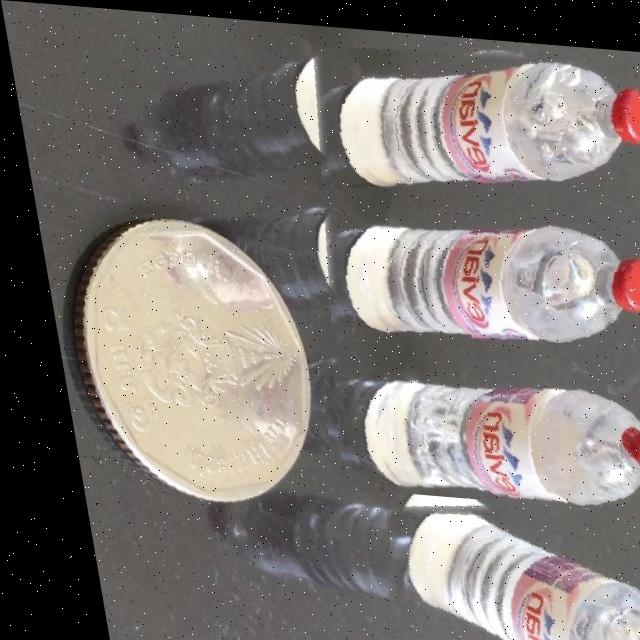plasticbottle: (260, 17, 640, 507), (356, 472, 640, 640)
plasticbottlecap: (628, 559, 640, 640)
